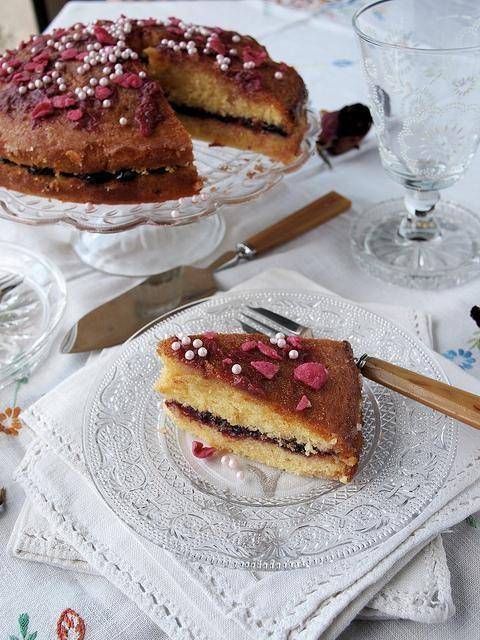glass-wine: (350, 1, 479, 291)
